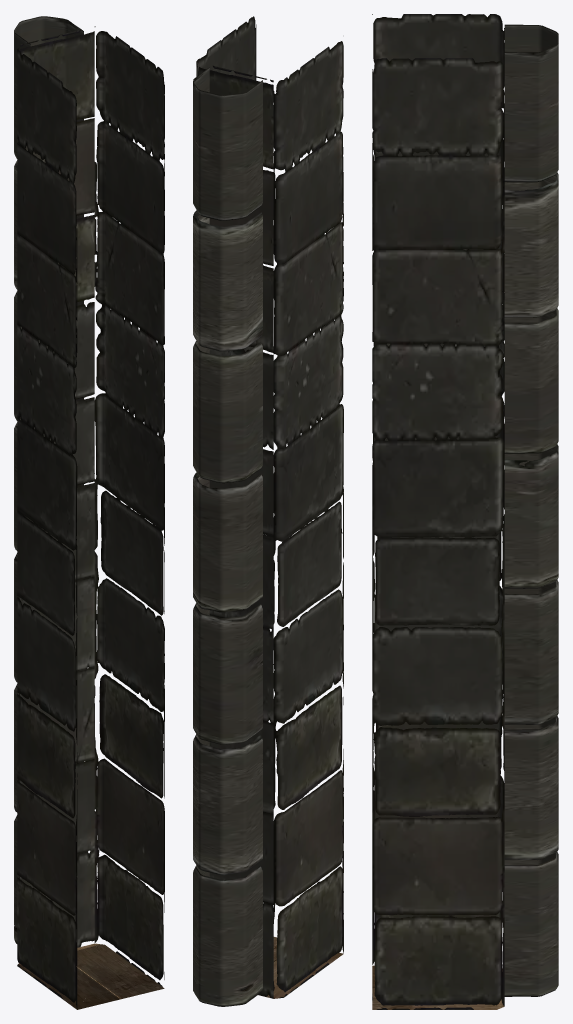
3 renders of one model, left to right at view 1: azimuth 30°, elevation 25°; view 2: azimuth 150°, elevation 25°; view 3: azimuth 270°, elevation 25°, orthographic. The views are drawn at different scales.
Parts seen in each view (by area): view 1: SM_Greathall_Wall_8x10_05_LOD0; view 2: SM_Greathall_Wall_8x10_05_LOD0; view 3: SM_Greathall_Wall_8x10_05_LOD0.
Part boxes in pixels (x1,y1,x2,y2): SM_Greathall_Wall_8x10_05_LOD0: [14, 16, 164, 1009]; SM_Greathall_Wall_8x10_05_LOD0: [193, 16, 343, 1006]; SM_Greathall_Wall_8x10_05_LOD0: [372, 14, 558, 1009].
Bounding box in the file's own units: 0.9998 × 10 × 1.77.
2 materials, 2 textured.
